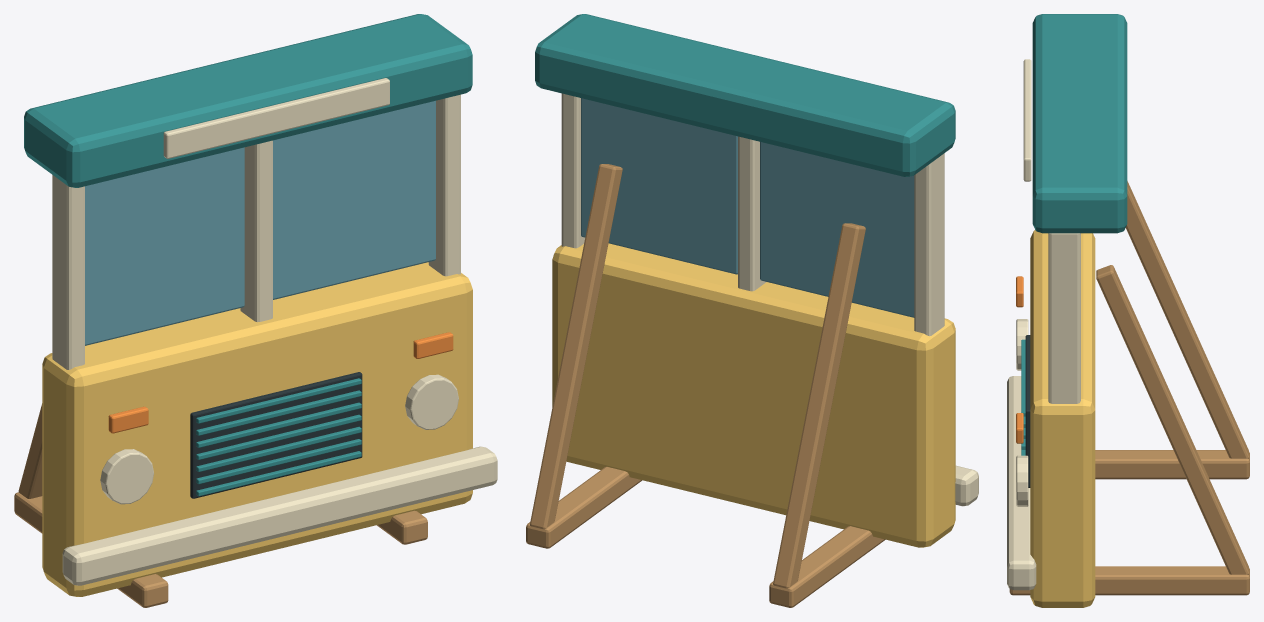
Rendered from S090_bus_front_shell.glb.
3 views of the same model, side by side, from view 1: azimuth 30°, elevation 25°; view 2: azimuth 150°, elevation 25°; view 3: azimuth 270°, elevation 25° (orthographic). The views are drawn at different scales.
Visible parts, largest first — view 1: bus_lower_front, bus_roof_header, bus_window.001, bus_window, bus_bumper, grille_dark, destination_blank, windshield_post, windshield_post.001, windshield_post.002, bus_headlight.001, bus_headlight (+12 smaller); view 2: bus_lower_front, bus_roof_header, bus_window.001, bus_window, bus_back_brace, bus_back_brace.001, windshield_post, bus_scenic_foot, bus_scenic_foot.001, windshield_post.001, windshield_post.002, bus_bumper; view 3: bus_roof_header, bus_lower_front, bus_back_brace.001, bus_back_brace, windshield_post.002, bus_scenic_foot.001, bus_scenic_foot, bus_bumper, destination_blank, grille_dark, bus_headlight.001, bus_headlight (+1 smaller).
Boxes of the visible parts, left/top/right/bottom form: bus_lower_front: left=42, top=262, right=472, bottom=596; bus_roof_header: left=24, top=14, right=472, bottom=187; bus_window.001: left=273, top=100, right=435, bottom=299; bus_window: left=85, top=147, right=244, bottom=345; bus_bumper: left=62, top=446, right=497, bottom=585; grille_dark: left=190, top=372, right=362, bottom=498; destination_blank: left=163, top=78, right=389, bottom=158; windshield_post: left=52, top=175, right=84, bottom=369; windshield_post.001: left=240, top=140, right=272, bottom=322; windshield_post.002: left=428, top=94, right=460, bottom=276; bus_headlight.001: left=405, top=374, right=458, bottom=429; bus_headlight: left=100, top=449, right=153, bottom=504; bus_lower_front: left=552, top=243, right=955, bottom=547; bus_roof_header: left=535, top=14, right=955, bottom=176; bus_window.001: left=581, top=98, right=737, bottom=274; bus_window: left=760, top=142, right=914, bottom=317; bus_back_brace: left=773, top=223, right=865, bottom=588; bus_back_brace.001: left=530, top=164, right=622, bottom=529; windshield_post: left=914, top=153, right=944, bottom=336; bus_scenic_foot: left=769, top=526, right=885, bottom=607; bus_scenic_foot.001: left=526, top=466, right=641, bottom=548; windshield_post.001: left=738, top=136, right=766, bottom=291; windshield_post.002: left=561, top=93, right=584, bottom=248; bus_bumper: left=955, top=465, right=978, bottom=506; bus_roof_header: left=1032, top=14, right=1127, bottom=233; bus_lower_front: left=1030, top=230, right=1095, bottom=607; bus_back_brace.001: left=1096, top=265, right=1248, bottom=574; bus_back_brace: left=1125, top=181, right=1248, bottom=458; windshield_post.002: left=1048, top=233, right=1080, bottom=403; bus_scenic_foot.001: left=1009, top=566, right=1249, bottom=595; bus_scenic_foot: left=1095, top=450, right=1249, bottom=479; bus_bumper: left=1007, top=376, right=1036, bottom=590; destination_blank: left=1023, top=59, right=1031, bottom=181; grille_dark: left=1025, top=335, right=1030, bottom=487; bus_headlight.001: left=1016, top=455, right=1028, bottom=506; bus_headlight: left=1016, top=319, right=1028, bottom=370.
Size of the model in its own units: 2.62 by 2.78 by 1.41.
